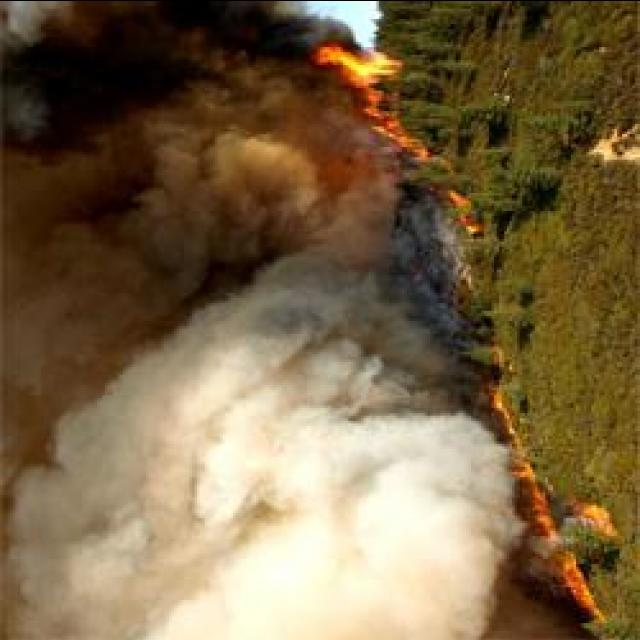fire: (310, 45, 400, 78)
smoke: (9, 143, 384, 390), (171, 400, 503, 638), (10, 0, 302, 148)
